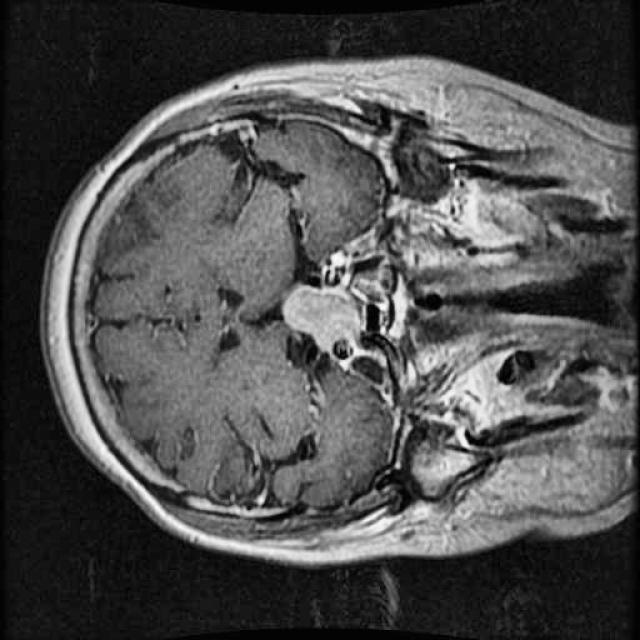Tumor: (276, 276, 382, 370)
